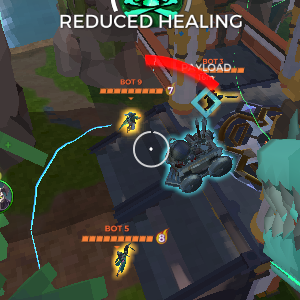model: (115, 243, 132, 280), (118, 106, 137, 139), (208, 88, 221, 118)
